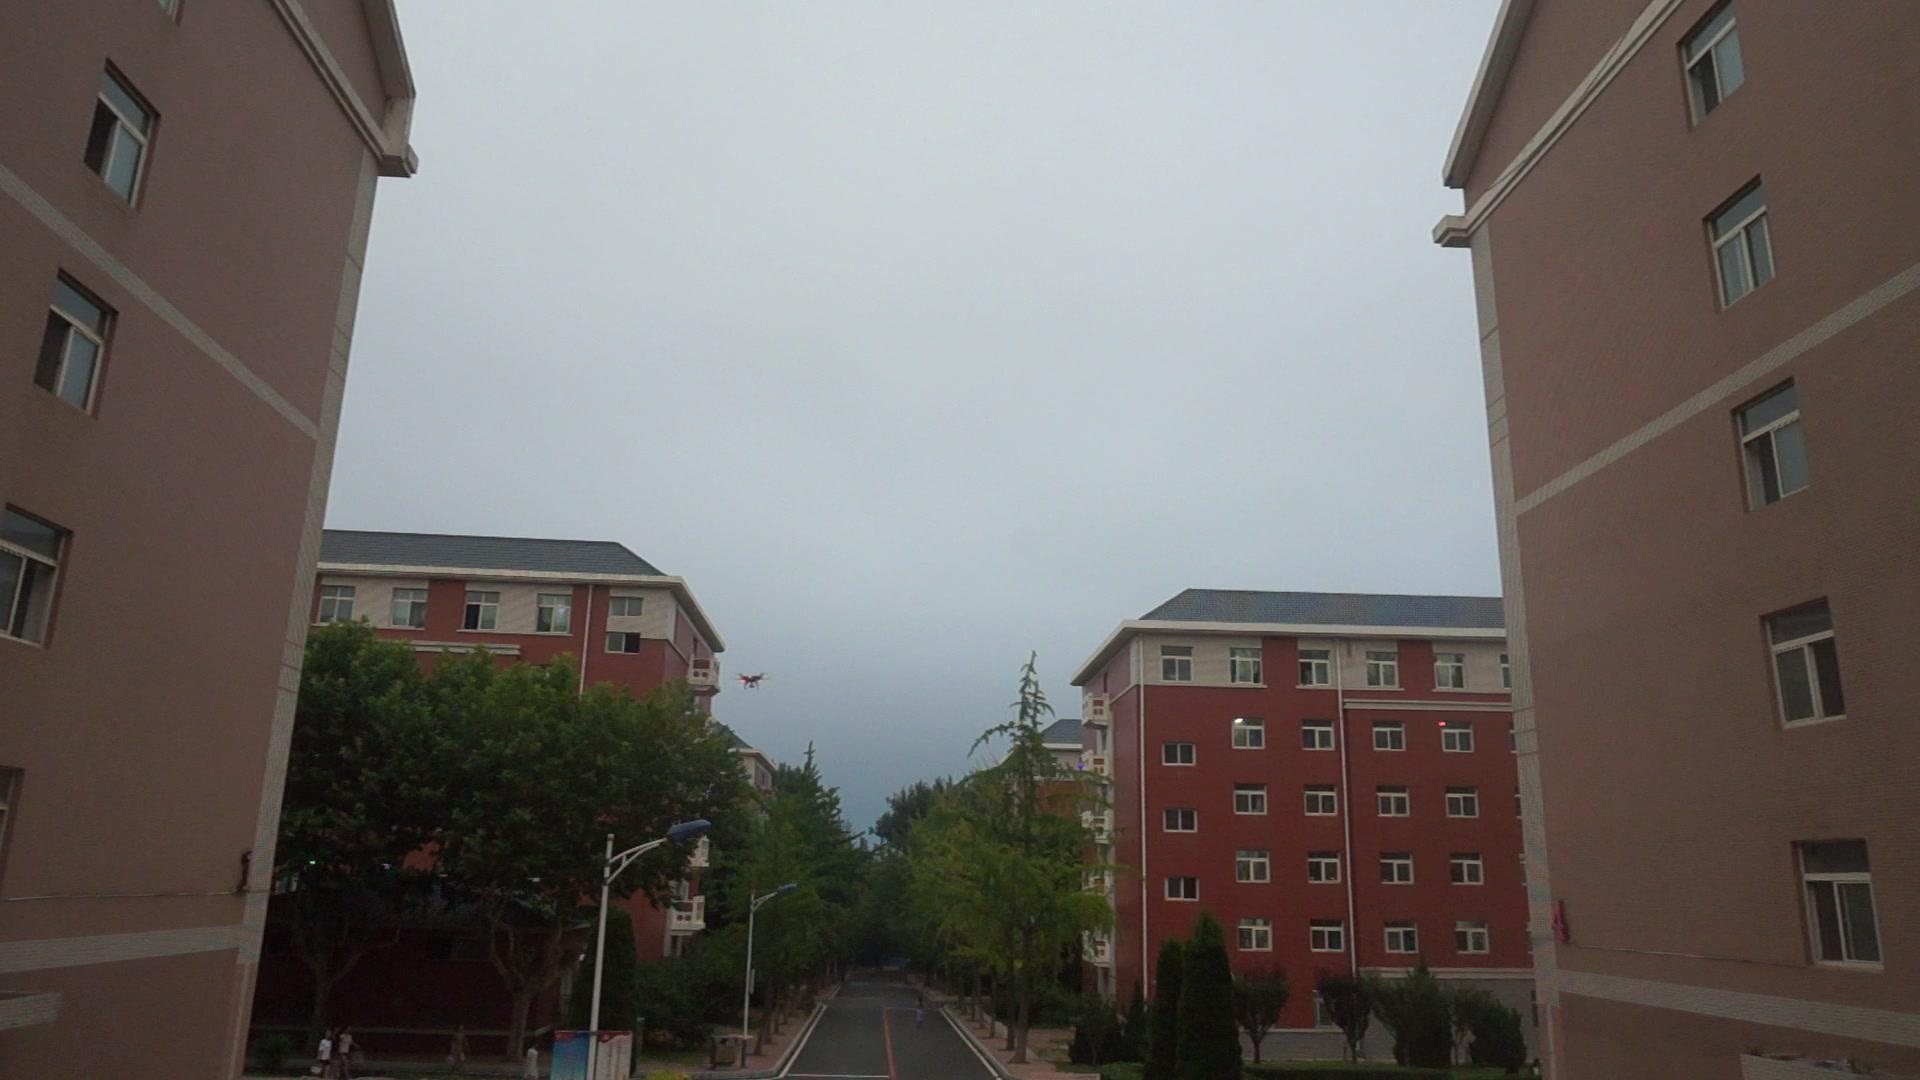UAV: (735, 673, 770, 691)
